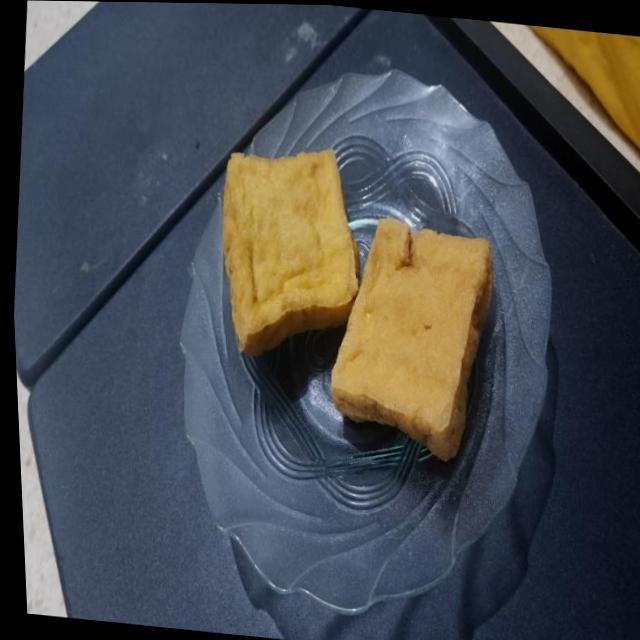tahu_goreng: (330, 218, 492, 461), (222, 150, 358, 355)
